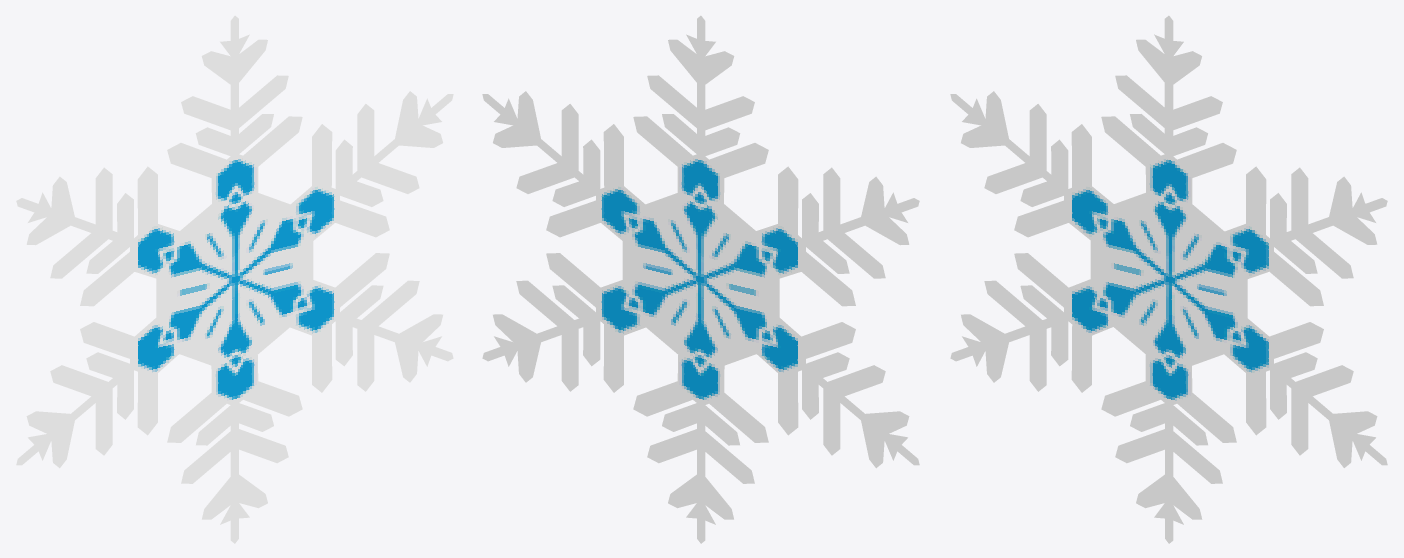
Rendered from ps2_save-icons_hiironokakeraanosoranoshitade.glb.
The picture shows the model from 3 angles, left to right: view 1: azimuth 30°, elevation 25°; view 2: azimuth 150°, elevation 25°; view 3: azimuth 330°, elevation 25°; orthographic projection.
Parts seen in each view (by area): view 1: SAVE.ICO; view 2: SAVE.ICO; view 3: SAVE.ICO.
Part boxes in pixels (bbox=[...]): SAVE.ICO: bbox=[16, 15, 453, 543]; SAVE.ICO: bbox=[482, 15, 919, 543]; SAVE.ICO: bbox=[950, 15, 1387, 543].
Size of the model in its own units: 3.34 by 3.85 by 0.0249.
Materials: 1 (1 with a texture image).
